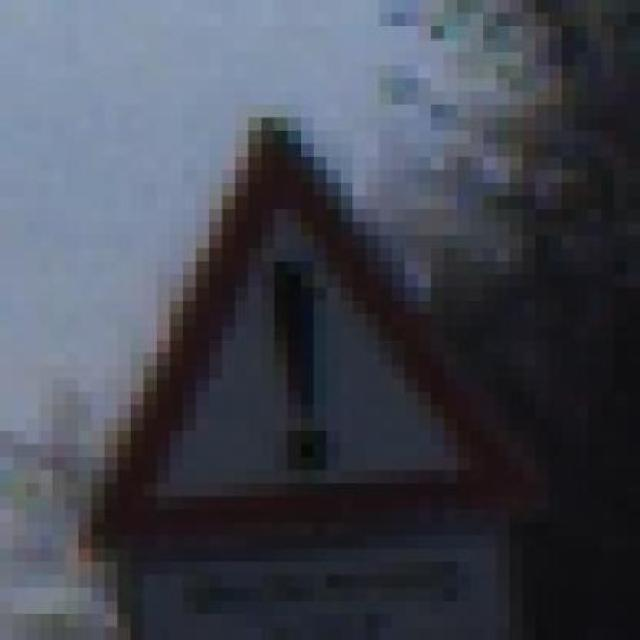Attention Please-: (35, 105, 571, 550)
